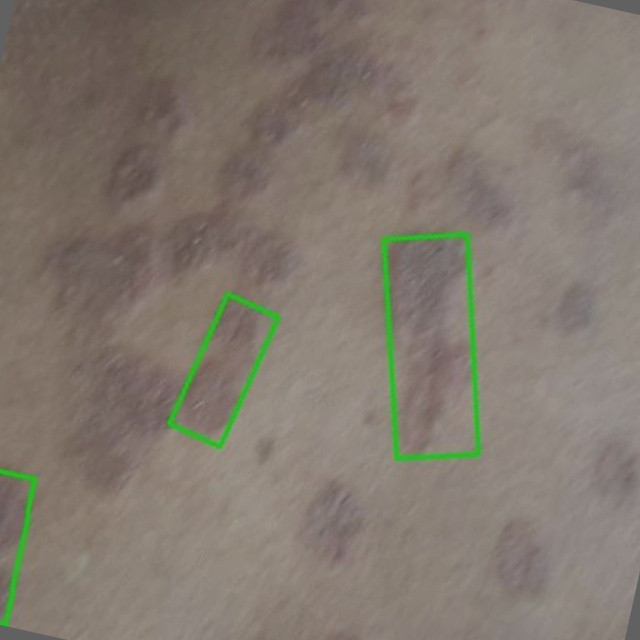Tinea Corporis: (385, 233, 479, 458), (169, 293, 279, 446)
